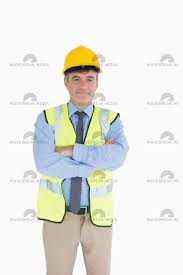Person_wearing_helmet: (58, 41, 108, 82)
